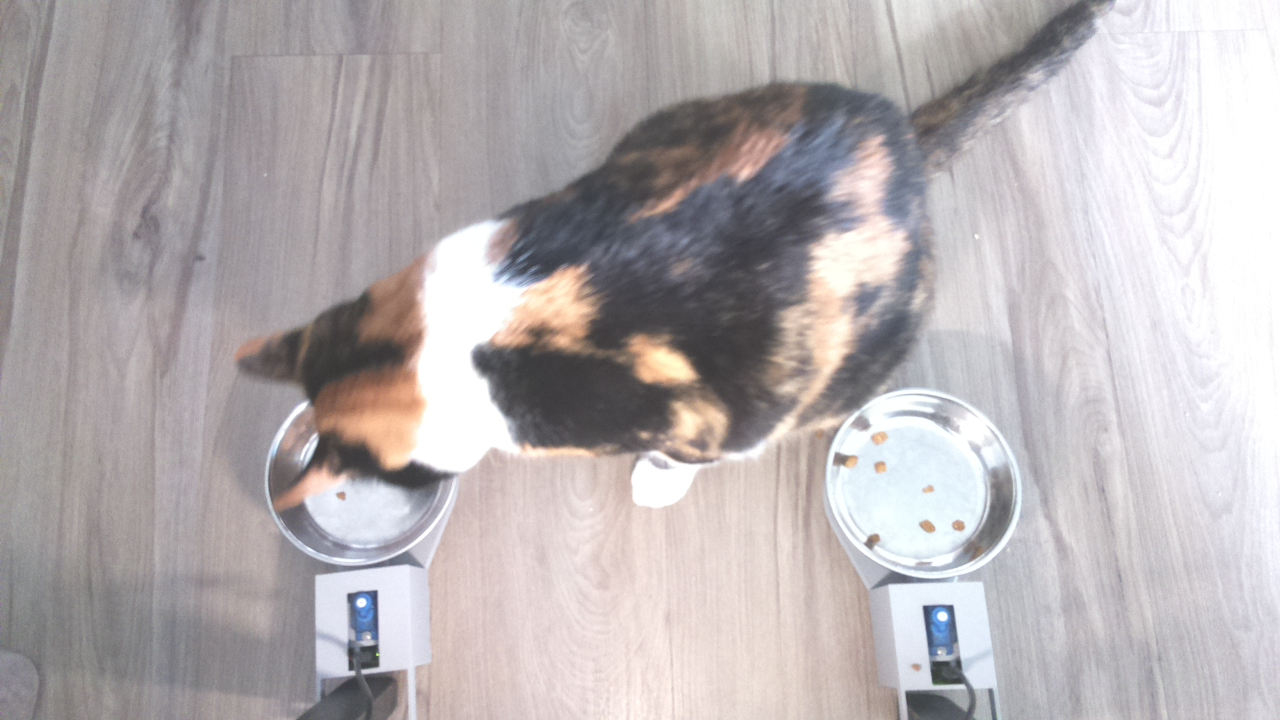bella_eating: (233, 278, 499, 542)
open_bowl: (822, 386, 1026, 582)
